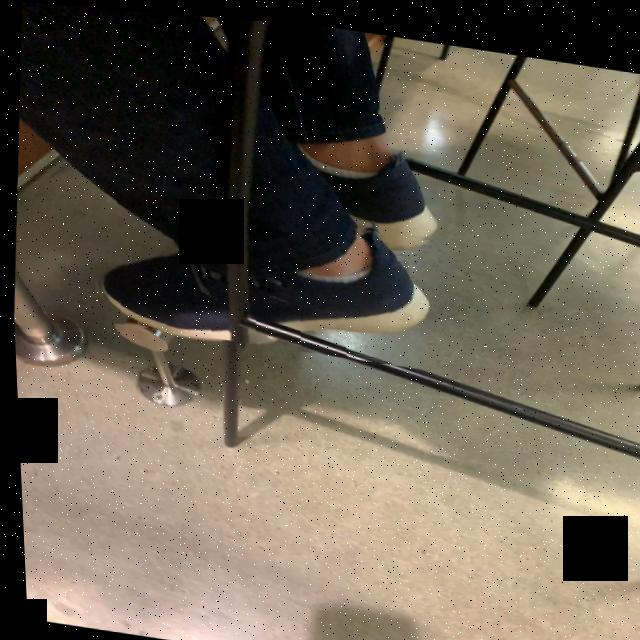shoe: (94, 224, 435, 339)
